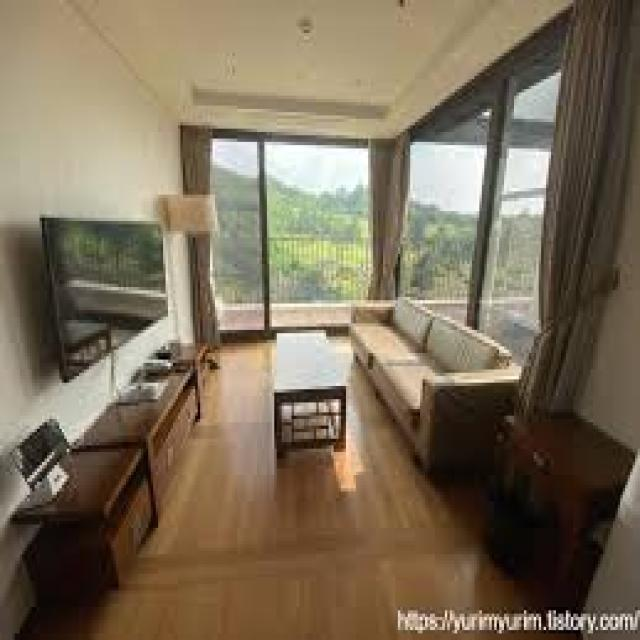Sofa: (349, 297, 528, 495)
Table: (270, 327, 349, 462)
tv: (35, 211, 169, 382)
window: (404, 28, 588, 288), (183, 131, 390, 295)
